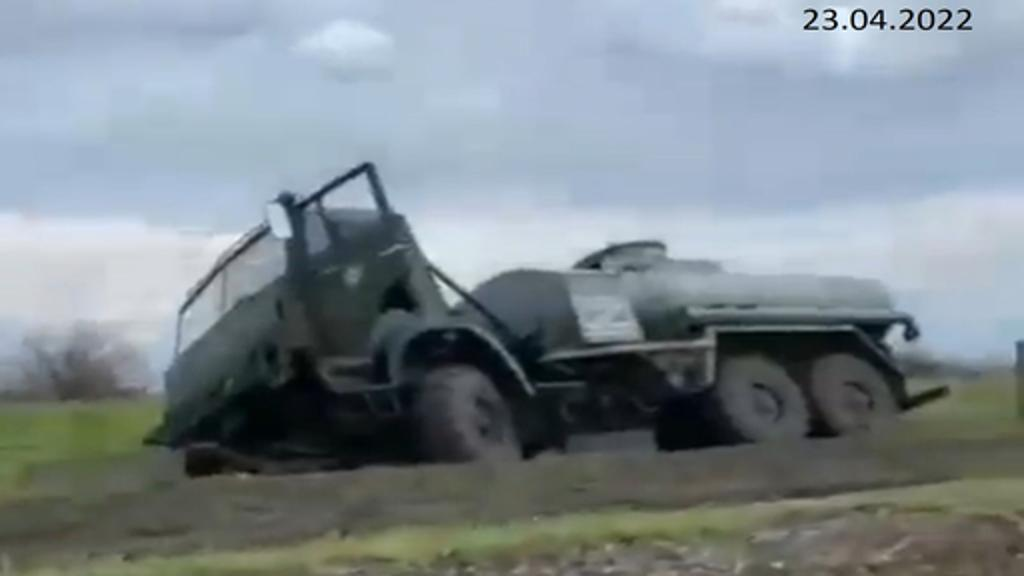TRUCK: (146, 156, 942, 470)
